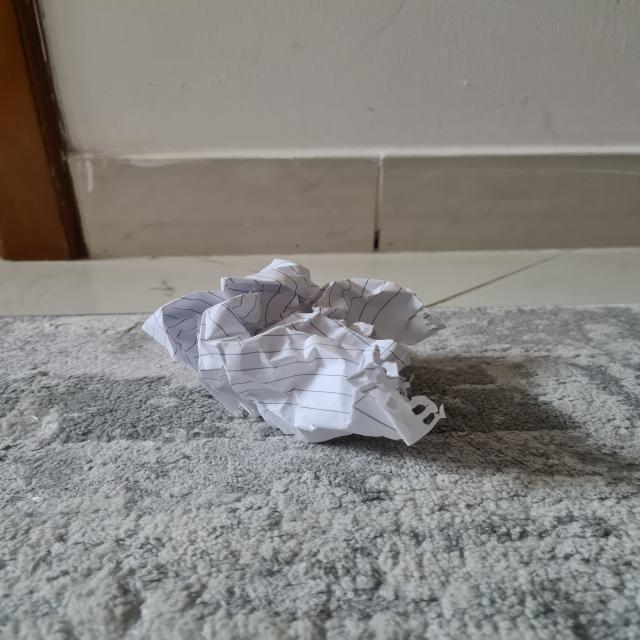Paper: (111, 249, 445, 447)
